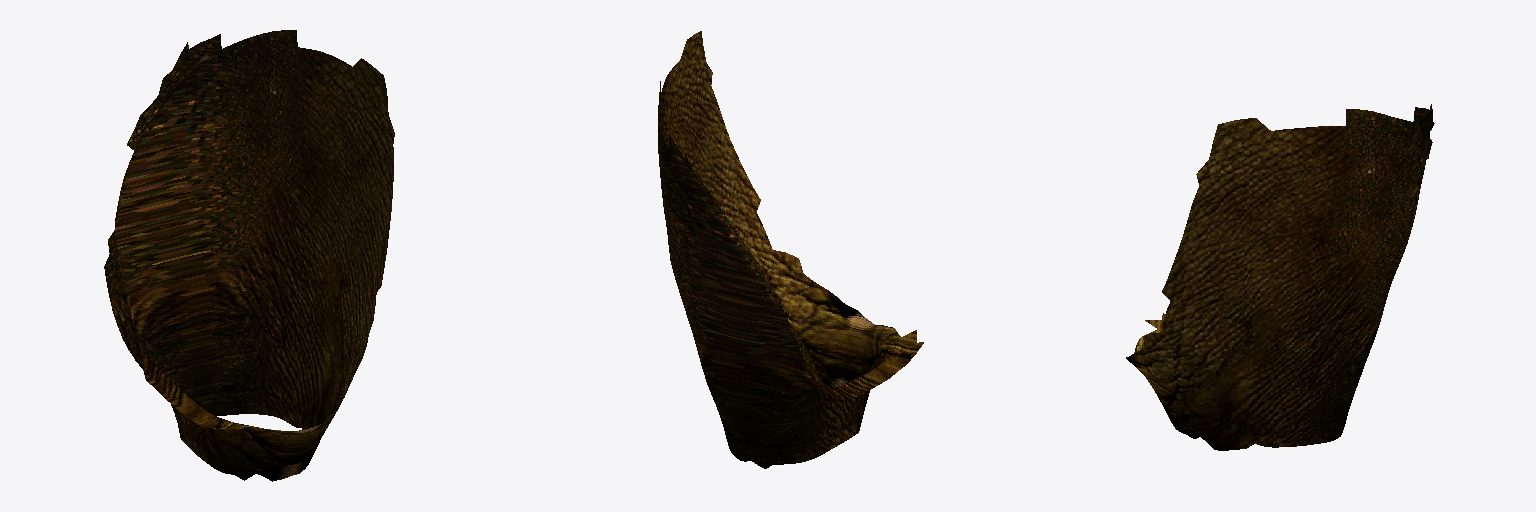
The picture shows the model from 3 angles: view 1: azimuth 30°, elevation 25°; view 2: azimuth 150°, elevation 25°; view 3: azimuth 270°, elevation 25°; orthographic projection.
Visible parts, largest first — view 1: ele_upper_rear_left; view 2: ele_upper_rear_left; view 3: ele_upper_rear_left.
Part boxes in pixels (x1,y1,x2,y2): ele_upper_rear_left: (104,30,394,481); ele_upper_rear_left: (658,31,923,468); ele_upper_rear_left: (1126,104,1434,450).
Size of the model in its own units: 1359 by 2439 by 1858.
Materials: 1 (1 with a texture image).